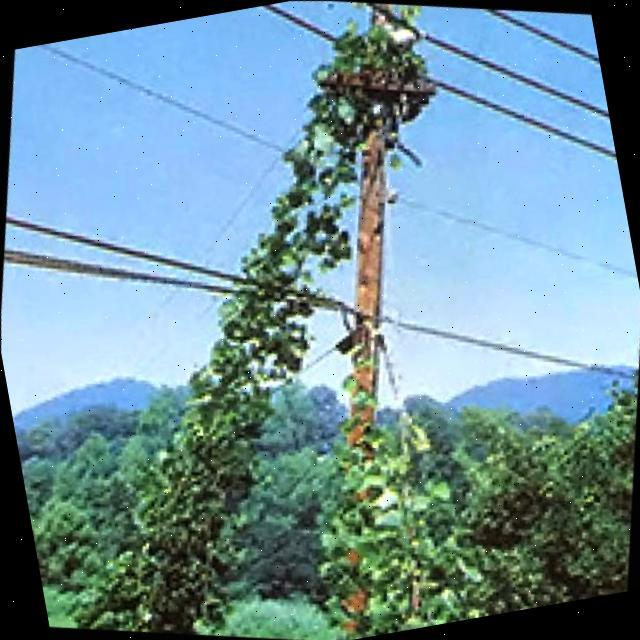critical vegetation: (138, 0, 519, 443)
